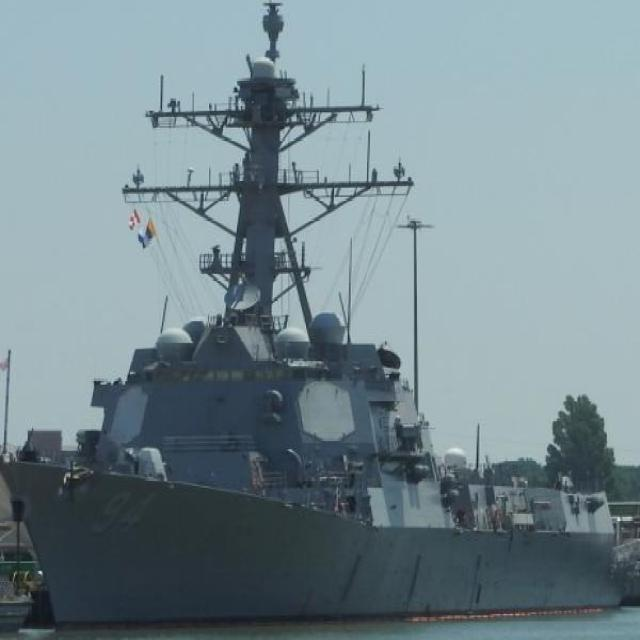Military: (0, 0, 619, 624)
